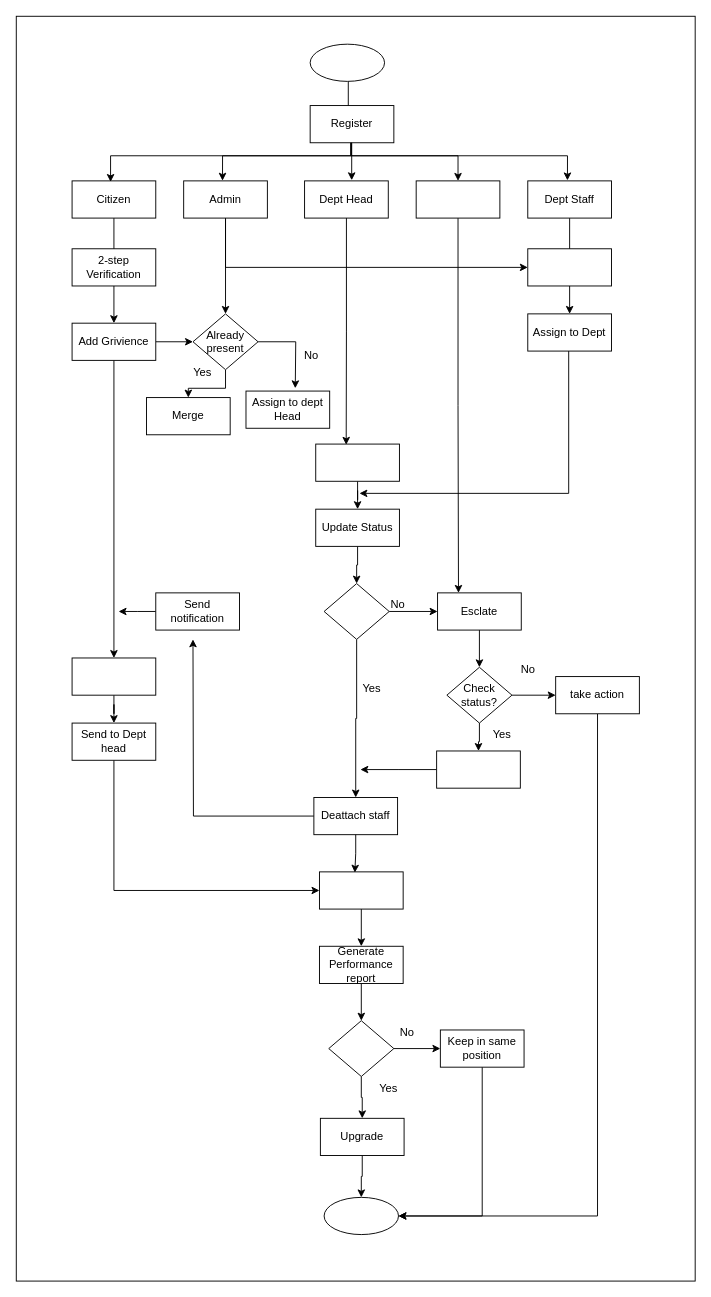
The diagram is 711 pixels wide and 1297 high, and some of its shapes have lost their labels. Each missing label, with the centre of its shape:
Analysis data of Staff: (361,890)
Approved: (569,267)
Assign to Staff: (357,462)
Performance better??: (361,1048)
Provide Feedback: (113,676)
Send notification to head: (478,769)
Senior Official: (457,199)
Start: (347,62)
Stop: (361,1215)
Within time completed: (356,611)
